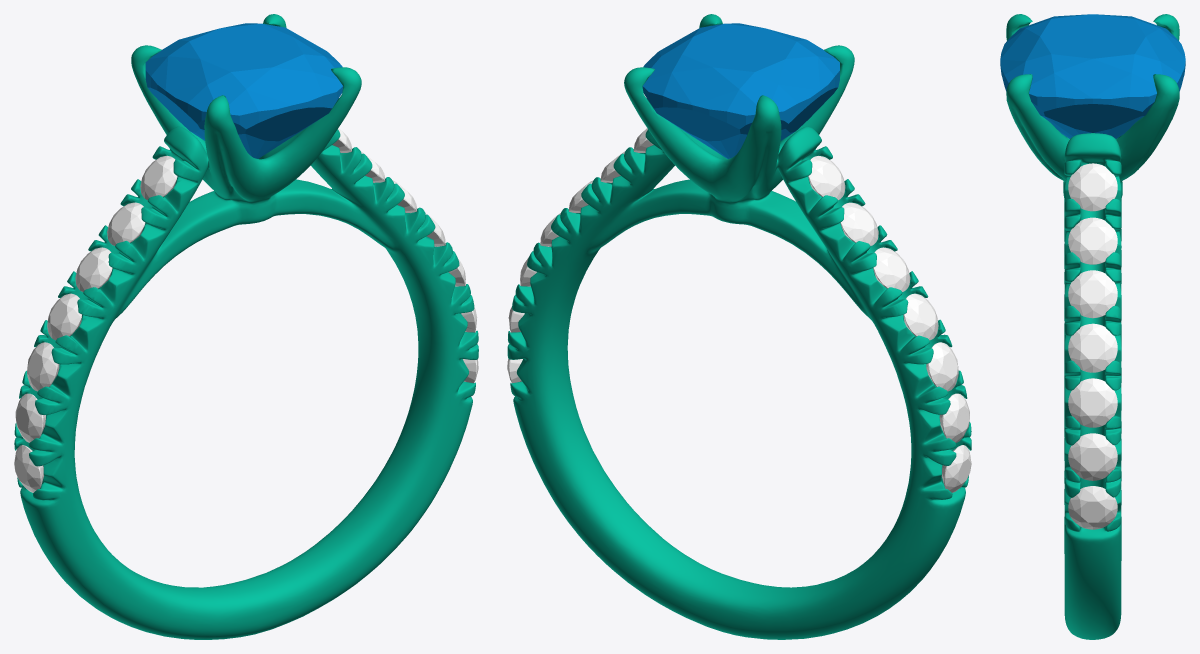
Rendered from BE1D1420_CU_200ct_RENDER.glb.
3 views of the same model, side by side, from view 1: azimuth 30°, elevation 25°; view 2: azimuth 150°, elevation 25°; view 3: azimuth 270°, elevation 25° (orthographic).
Parts seen in each view (by area): view 1: Metal 01, CS_Diamond_Cushion Square, Diamond_Round_Gem_SH.011, Diamond_Round_Gem_SH.012, Diamond_Round_Gem_SH.010, Diamond_Round_Gem_SH.013, Diamond_Round_Gem_SH.009, Diamond_Round_Gem_SH.008, Diamond_Round_Gem_SH.007; view 2: Metal 01, CS_Diamond_Cushion Square, Diamond_Round_Gem_SH.011, Diamond_Round_Gem_SH.010, Diamond_Round_Gem_SH.012, Diamond_Round_Gem_SH.013, Diamond_Round_Gem_SH.009, Diamond_Round_Gem_SH.008, Diamond_Round_Gem_SH.007; view 3: Metal 01, CS_Diamond_Cushion Square, Diamond_Round_Gem_SH.004, Diamond_Round_Gem_SH.003, Diamond_Round_Gem_SH.002, Diamond_Round_Gem_SH, Diamond_Round_Gem_SH.005, Diamond_Round_Gem_SH.001, Diamond_Round_Gem_SH.006.
Part boxes in pixels (bbox=[...]): Metal 01: bbox=[14, 14, 478, 639]; CS_Diamond_Cushion Square: bbox=[145, 23, 343, 158]; Diamond_Round_Gem_SH.011: bbox=[75, 247, 112, 291]; Diamond_Round_Gem_SH.012: bbox=[107, 202, 145, 245]; Diamond_Round_Gem_SH.010: bbox=[47, 293, 81, 340]; Diamond_Round_Gem_SH.013: bbox=[140, 155, 177, 199]; Diamond_Round_Gem_SH.009: bbox=[27, 342, 59, 391]; Diamond_Round_Gem_SH.008: bbox=[15, 393, 45, 442]; Diamond_Round_Gem_SH.007: bbox=[14, 445, 43, 492]; Metal 01: bbox=[507, 14, 971, 639]; CS_Diamond_Cushion Square: bbox=[642, 23, 839, 158]; Diamond_Round_Gem_SH.011: bbox=[873, 247, 910, 291]; Diamond_Round_Gem_SH.010: bbox=[903, 293, 938, 340]; Diamond_Round_Gem_SH.012: bbox=[840, 202, 878, 246]; Diamond_Round_Gem_SH.013: bbox=[808, 156, 845, 200]; Diamond_Round_Gem_SH.009: bbox=[926, 342, 958, 391]; Diamond_Round_Gem_SH.008: bbox=[939, 393, 969, 442]; Diamond_Round_Gem_SH.007: bbox=[941, 445, 971, 492]; Metal 01: bbox=[1006, 14, 1179, 639]; CS_Diamond_Cushion Square: bbox=[1000, 14, 1185, 138]; Diamond_Round_Gem_SH.004: bbox=[1068, 378, 1117, 427]; Diamond_Round_Gem_SH.003: bbox=[1068, 323, 1117, 372]; Diamond_Round_Gem_SH.002: bbox=[1068, 270, 1117, 318]; Diamond_Round_Gem_SH: bbox=[1068, 163, 1117, 211]; Diamond_Round_Gem_SH.005: bbox=[1068, 433, 1117, 480]; Diamond_Round_Gem_SH.001: bbox=[1068, 217, 1117, 264]; Diamond_Round_Gem_SH.006: bbox=[1068, 486, 1117, 529].
Size of the model in its own units: 20.99 by 25.87 by 7.5.
